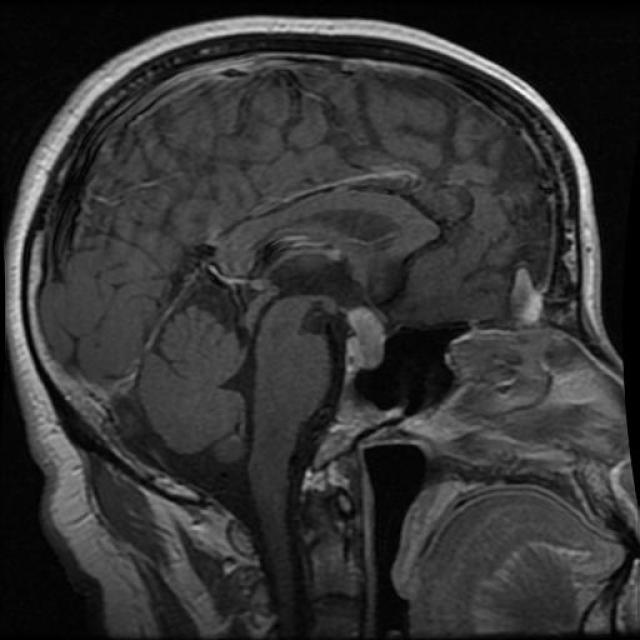brain_tumor: (346, 309, 391, 372)
